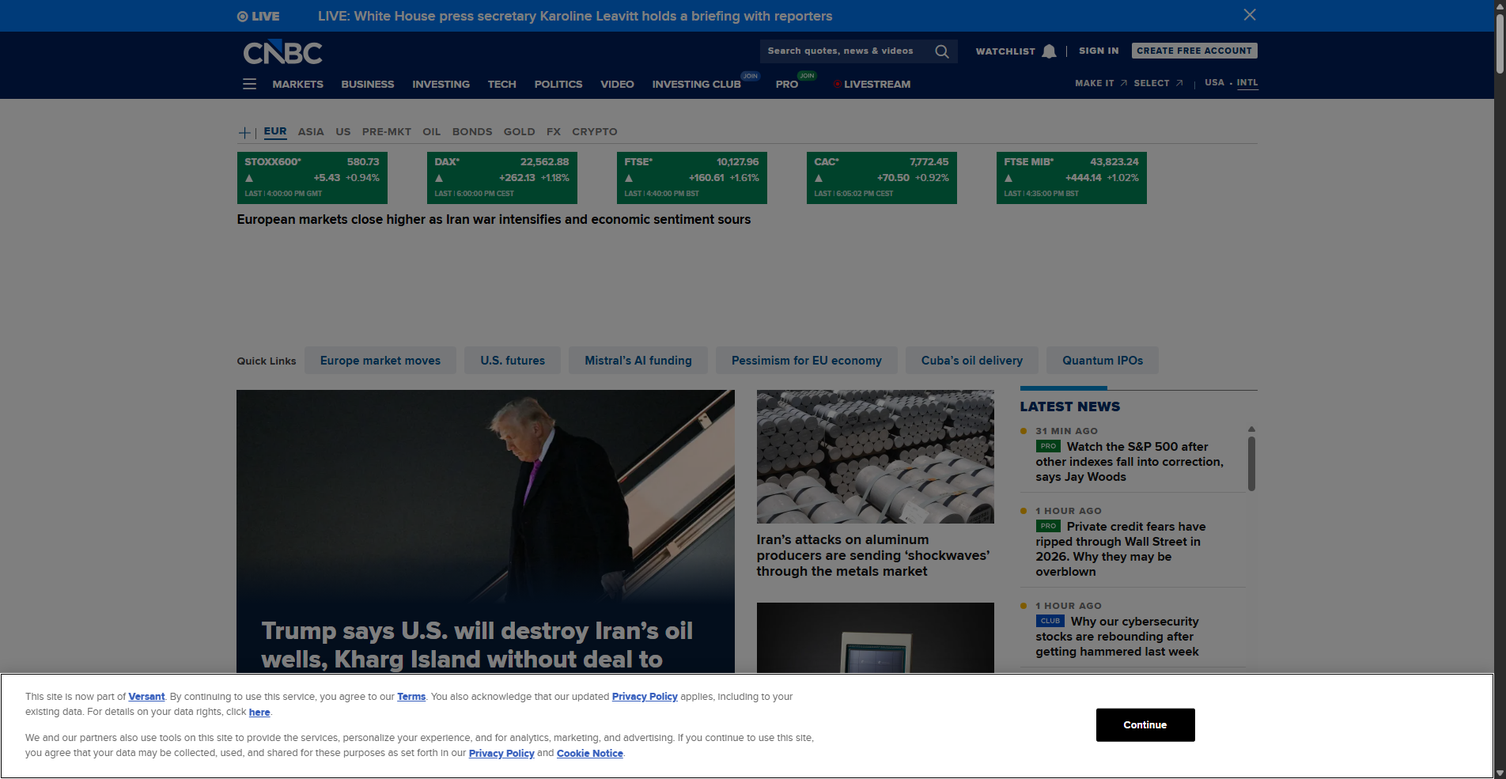button: (760, 40, 958, 63), (1096, 708, 1195, 741), (640, 68, 747, 95), (652, 72, 741, 95), (401, 68, 476, 95), (329, 68, 401, 95), (261, 68, 329, 95), (523, 68, 589, 95), (589, 68, 640, 95), (237, 0, 279, 32), (412, 72, 470, 95), (476, 68, 523, 95), (341, 72, 394, 95), (272, 72, 323, 95), (764, 68, 805, 95), (535, 72, 582, 95), (1075, 77, 1128, 95), (362, 125, 412, 141), (601, 72, 634, 95), (572, 125, 618, 141), (452, 125, 493, 141), (488, 72, 516, 95), (1134, 77, 1183, 90), (776, 72, 798, 95), (504, 125, 535, 141), (298, 125, 324, 141), (264, 125, 287, 141), (1041, 43, 1059, 63), (423, 125, 441, 141), (335, 125, 351, 141), (237, 127, 256, 140), (243, 76, 256, 94), (547, 125, 561, 141), (1244, 9, 1256, 21)
link: (236, 390, 734, 722), (261, 611, 693, 706), (757, 390, 994, 524), (757, 603, 994, 736), (318, 0, 1077, 32), (757, 529, 990, 581), (261, 718, 650, 749), (1036, 517, 1206, 580), (1036, 437, 1224, 486), (1036, 691, 1225, 739), (757, 742, 994, 779), (237, 212, 751, 228), (806, 152, 957, 204), (996, 152, 1147, 204), (1036, 612, 1199, 660), (237, 152, 387, 204), (427, 152, 577, 204), (617, 152, 767, 204), (297, 766, 524, 779), (732, 352, 882, 369), (320, 352, 441, 369), (1132, 43, 1257, 59), (237, 42, 322, 64), (585, 352, 692, 369), (1036, 770, 1230, 779), (921, 352, 1023, 369), (1062, 352, 1143, 369), (480, 352, 545, 369), (612, 689, 678, 704), (557, 745, 623, 760), (469, 745, 534, 760), (976, 44, 1036, 58), (1036, 613, 1071, 629), (128, 689, 165, 704), (1036, 438, 1067, 454), (1036, 518, 1067, 534), (1075, 77, 1115, 89), (397, 689, 426, 704), (1079, 46, 1119, 55), (249, 704, 270, 719), (1237, 76, 1259, 90), (1205, 76, 1225, 89)
menu_item: (640, 68, 747, 95), (401, 68, 476, 95), (329, 68, 401, 95), (261, 68, 329, 95), (523, 68, 589, 95), (589, 68, 640, 95), (476, 68, 523, 95), (764, 68, 805, 95)
